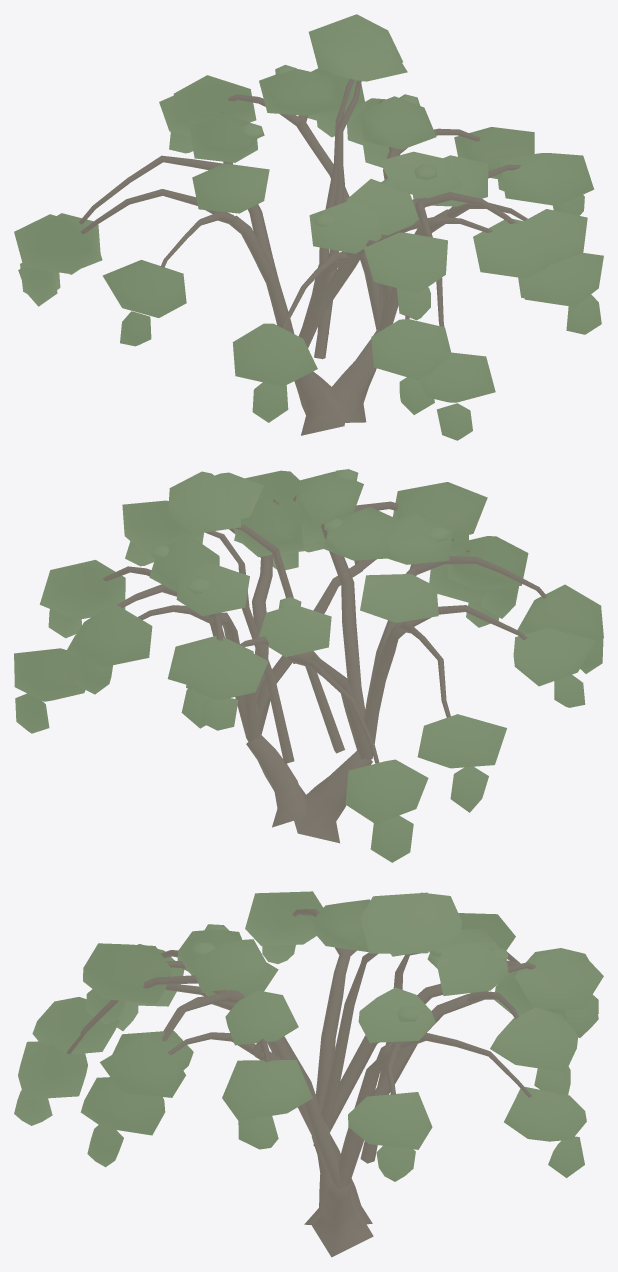
Rendered from Blender_Ironwood_2_Far.glb.
The picture shows the model from 3 angles, top to bottom: view 1: azimuth 30°, elevation 25°; view 2: azimuth 150°, elevation 25°; view 3: azimuth 270°, elevation 25°; orthographic projection. The views are drawn at different scales.
Visible parts, largest first — view 1: Blender_Ironwood_2_Far; view 2: Blender_Ironwood_2_Far; view 3: Blender_Ironwood_2_Far.
Boxes of the visible parts, bbox=[...] form: Blender_Ironwood_2_Far: bbox=[14, 14, 603, 440]; Blender_Ironwood_2_Far: bbox=[14, 469, 603, 862]; Blender_Ironwood_2_Far: bbox=[14, 891, 603, 1257].
Size of the model in its own units: 8.14 by 6.08 by 8.49.
